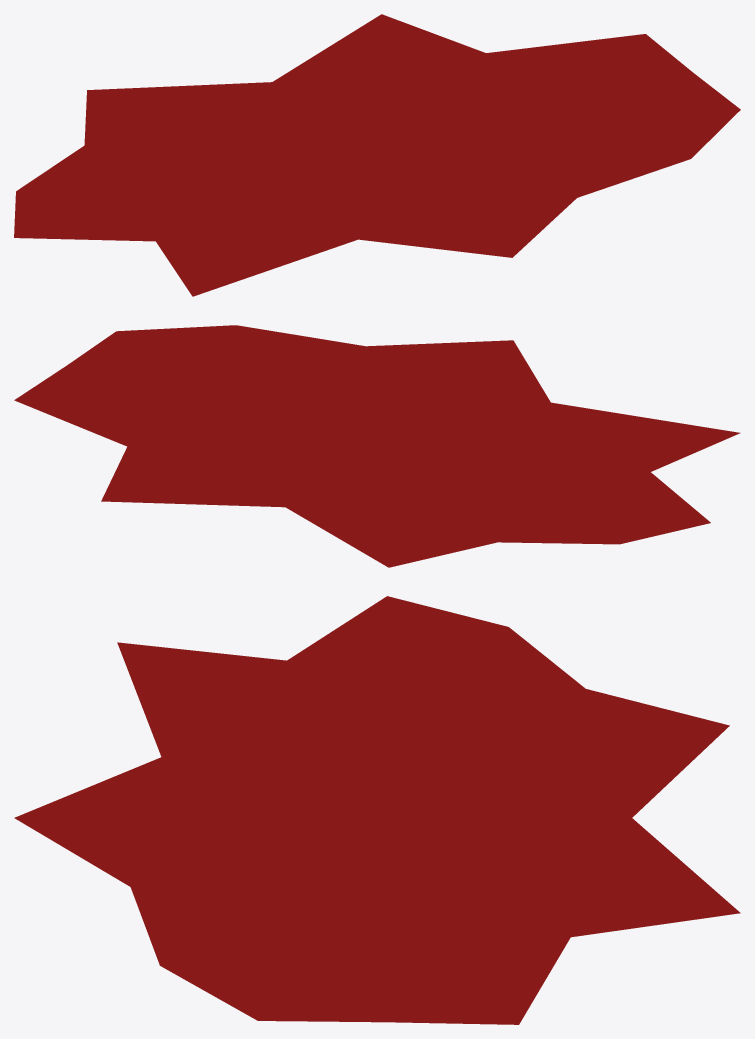
File: BloodStain.fbx
The picture shows the model from 3 angles, top to bottom: view 1: azimuth 30°, elevation 25°; view 2: azimuth 150°, elevation 25°; view 3: azimuth 270°, elevation 25°; orthographic projection. The views are drawn at different scales.
Visible parts, largest first — view 1: BloodStain; view 2: BloodStain; view 3: BloodStain.
Part boxes in pixels (bbox=[...]): BloodStain: bbox=[14, 14, 740, 296]; BloodStain: bbox=[14, 325, 740, 567]; BloodStain: bbox=[14, 596, 740, 1024].
Size of the model in its own units: 92.33 by 1.08e-05 by 66.15.
Materials: 1 (1 with a texture image).
